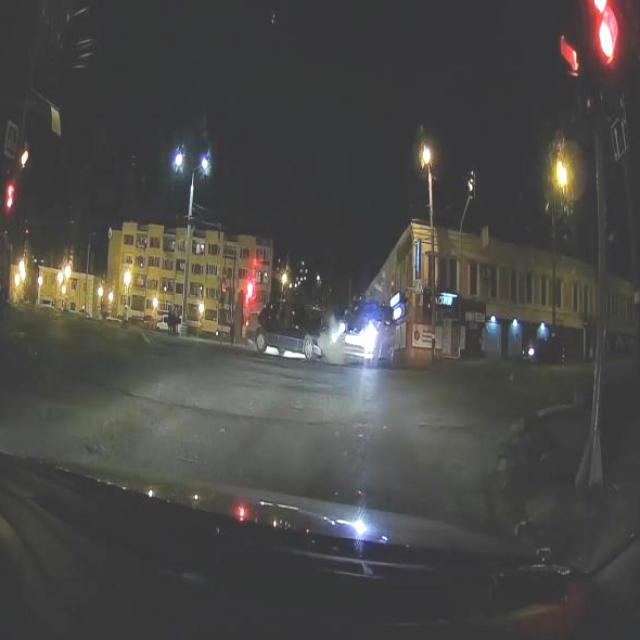accident: (243, 290, 399, 373)
